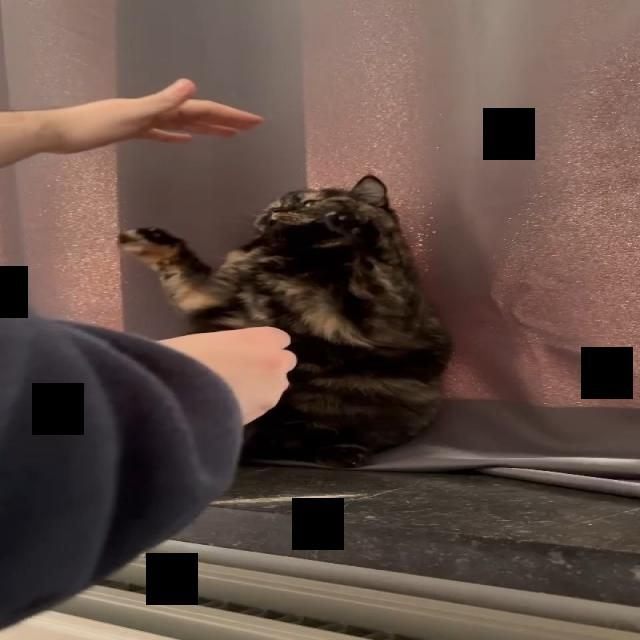authorized: (116, 173, 453, 469)
